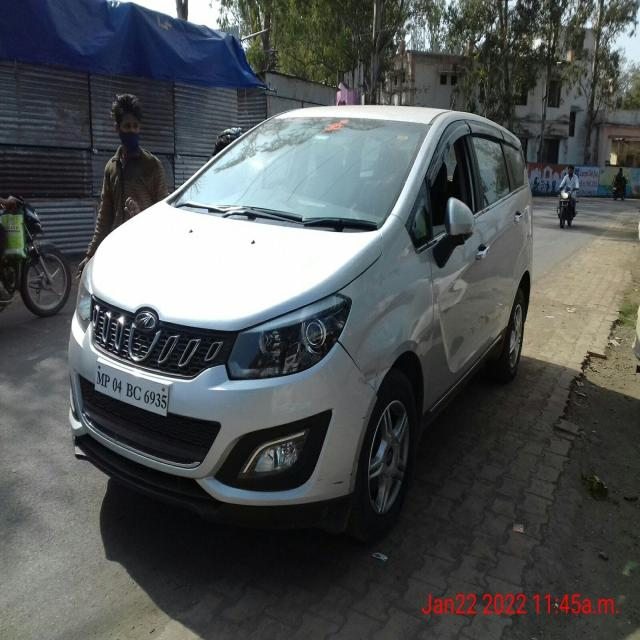damage: (326, 410, 372, 500), (365, 357, 392, 393), (356, 376, 371, 389)
